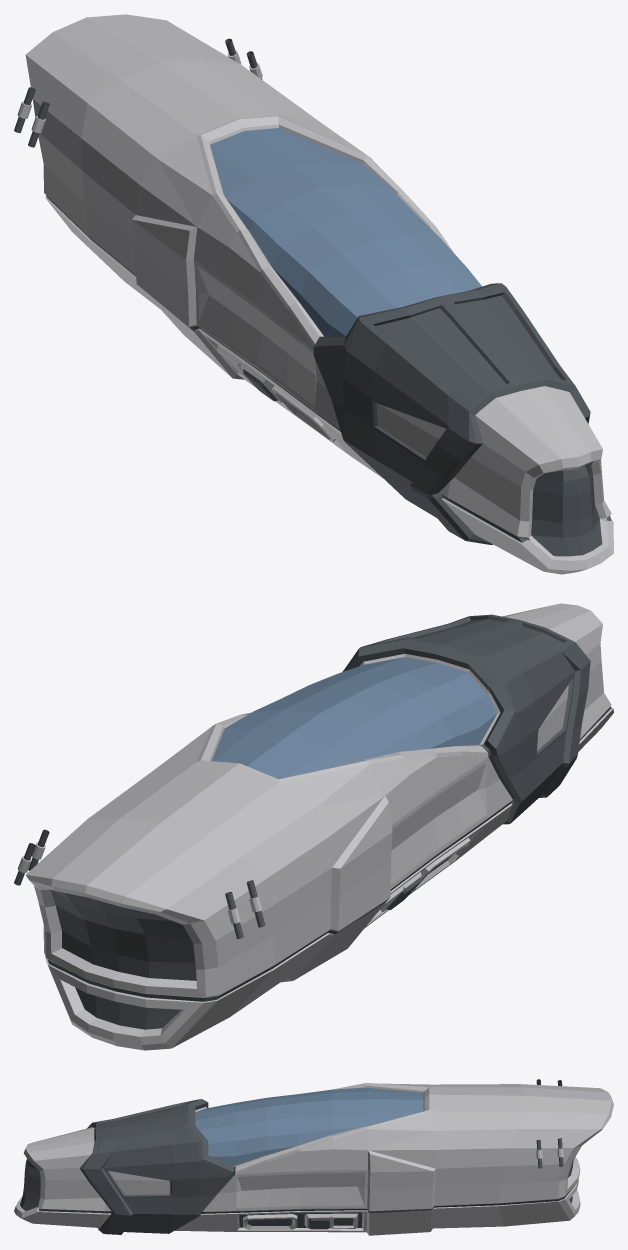
Rendered from Fighter_06_Neutral.fbx.
3 renders of one model, top to bottom at view 1: azimuth 30°, elevation 25°; view 2: azimuth 150°, elevation 25°; view 3: azimuth 270°, elevation 25°, orthographic. The views are drawn at different scales.
Visible parts, largest first — view 1: Fighter_06_Neutral; view 2: Fighter_06_Neutral; view 3: Fighter_06_Neutral.
Boxes of the visible parts, left/top/right/bottom form: Fighter_06_Neutral: left=14, top=14, right=613, bottom=574; Fighter_06_Neutral: left=14, top=603, right=613, bottom=1050; Fighter_06_Neutral: left=14, top=1079, right=613, bottom=1235.
Size of the model in its own units: 351 by 315 by 1291.
Materials: 3 (3 with a texture image).
